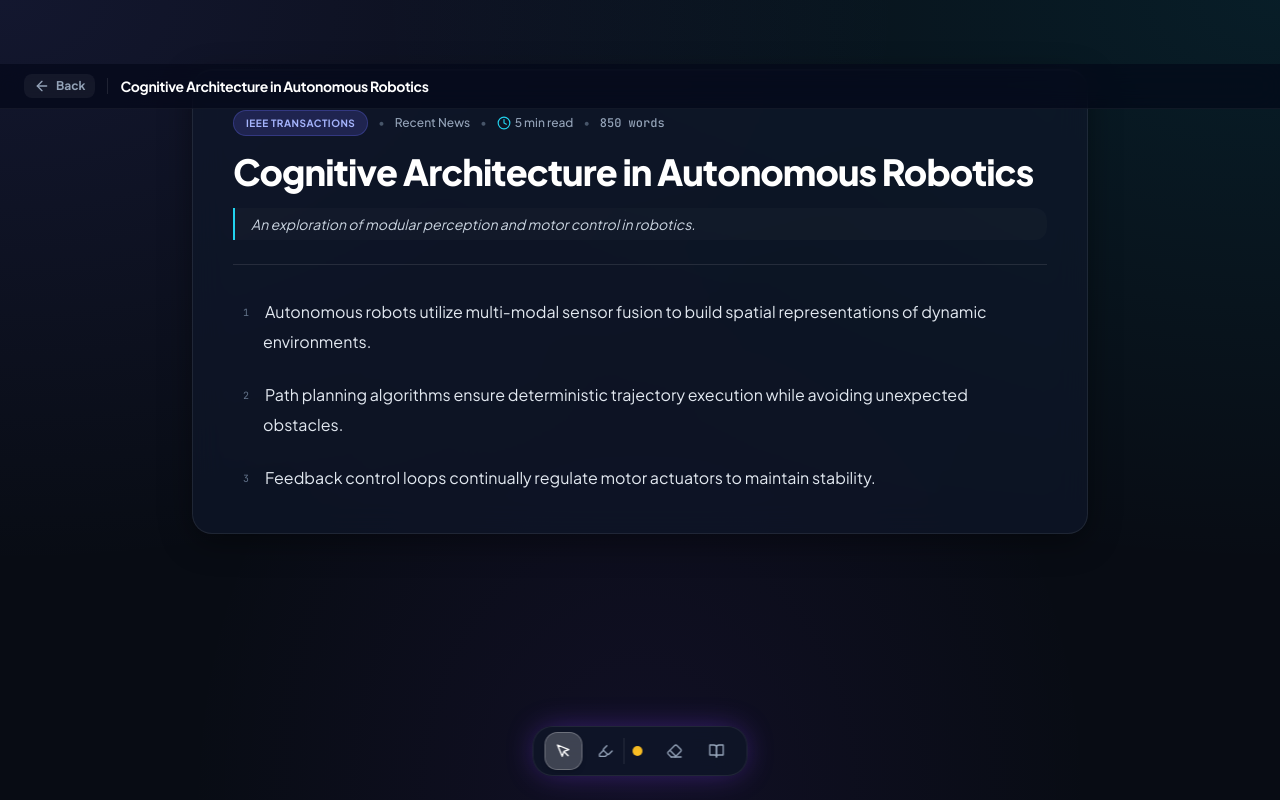
QA Validation Suite: Client 4 Feedback Items › Feedback Item 4: Workspace Layout & Default Quiz State › toggles Zen Mode into centered distraction-free max-w-[76ch] single column
Expected: the 1st heading "Cognitive Architecture in Autonomous Robotics" is shown, [120,76,429,96]
// Press 'Z' shortcut to enter Zen mode
Press z
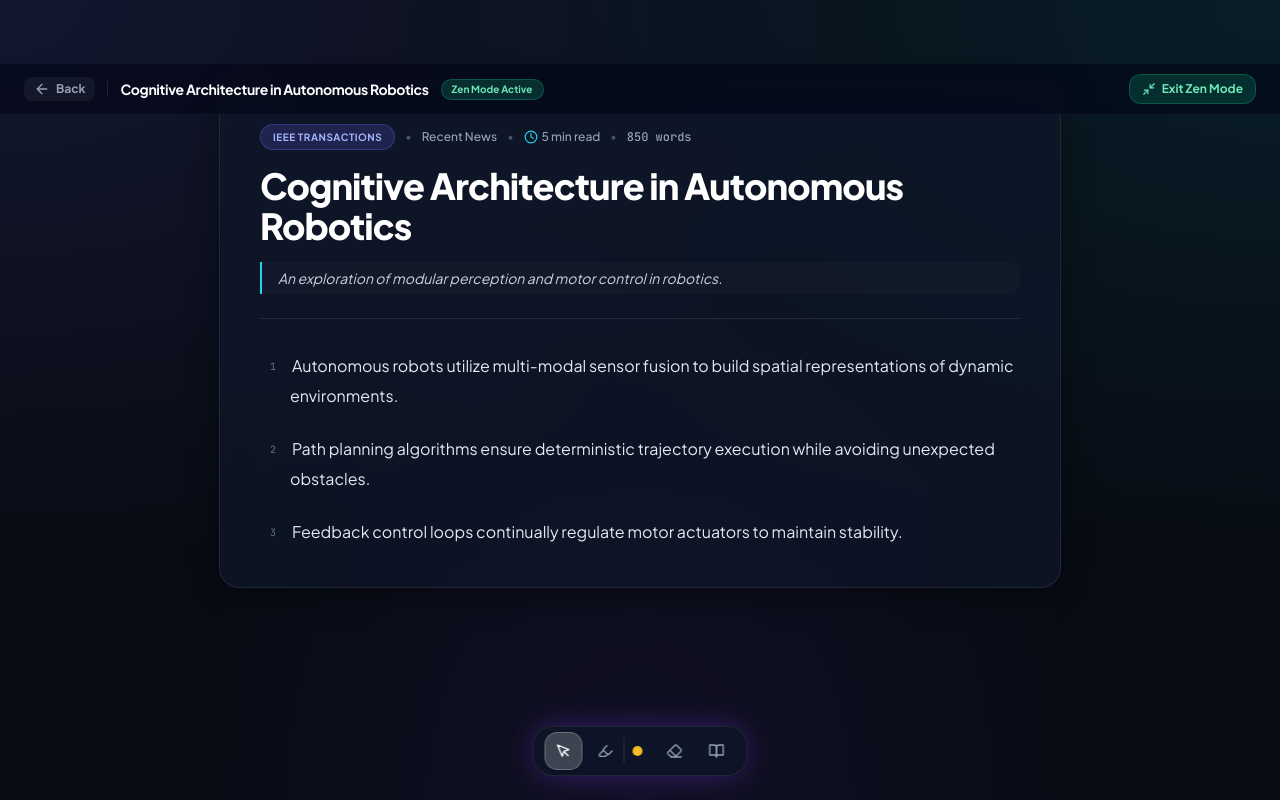
Expected: the text "Zen Mode Active" is shown, [440,78,544,100]
// Exit Zen mode via button
Click the button "Exit Zen Mode" at (1192, 89), box [1129,74,1256,104]
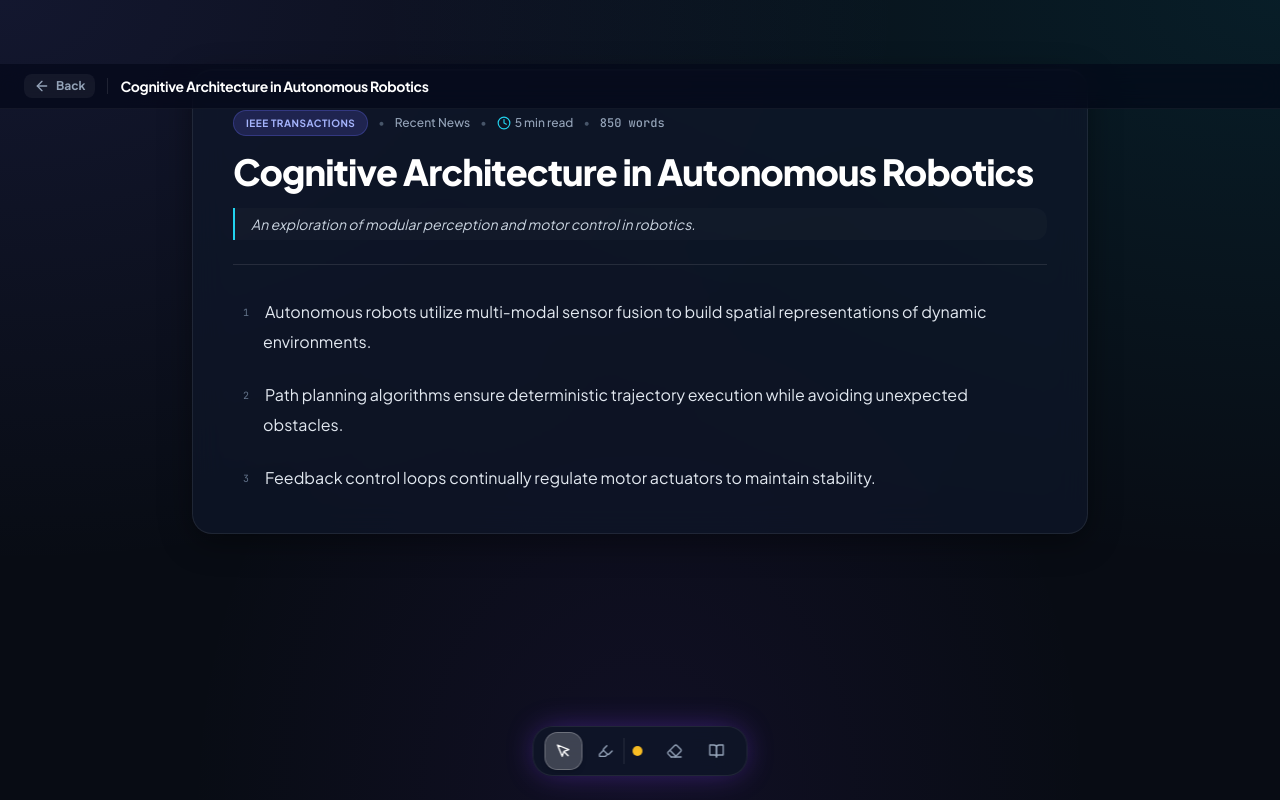
Expected: the text "Zen Mode Active" is gone
